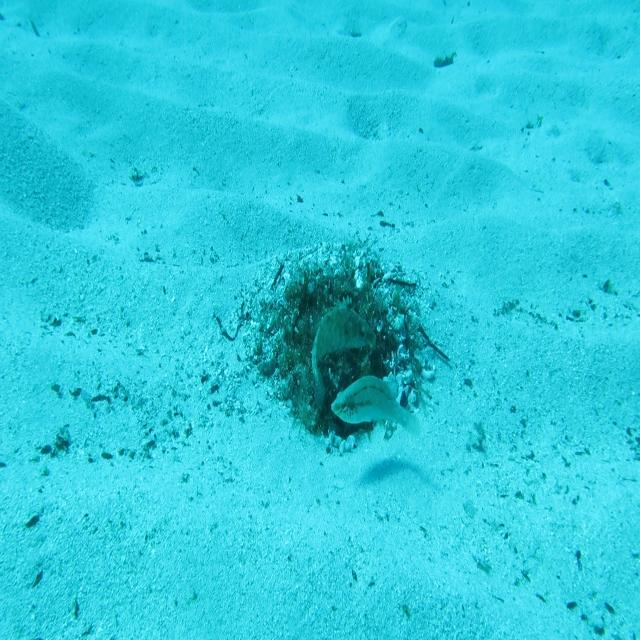BEND: (311, 292, 378, 412)
core_nest: (311, 288, 354, 340)
female: (328, 374, 422, 446)
nest: (229, 222, 444, 476)
vegetation: (434, 50, 456, 70)
